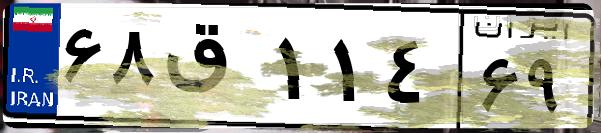1: (270, 28, 330, 110), (330, 28, 385, 110)
4: (385, 28, 445, 110)
6: (57, 26, 110, 100), (475, 38, 525, 113)
8: (110, 28, 158, 98)
9: (525, 38, 570, 115)
ق: (158, 20, 270, 120)
